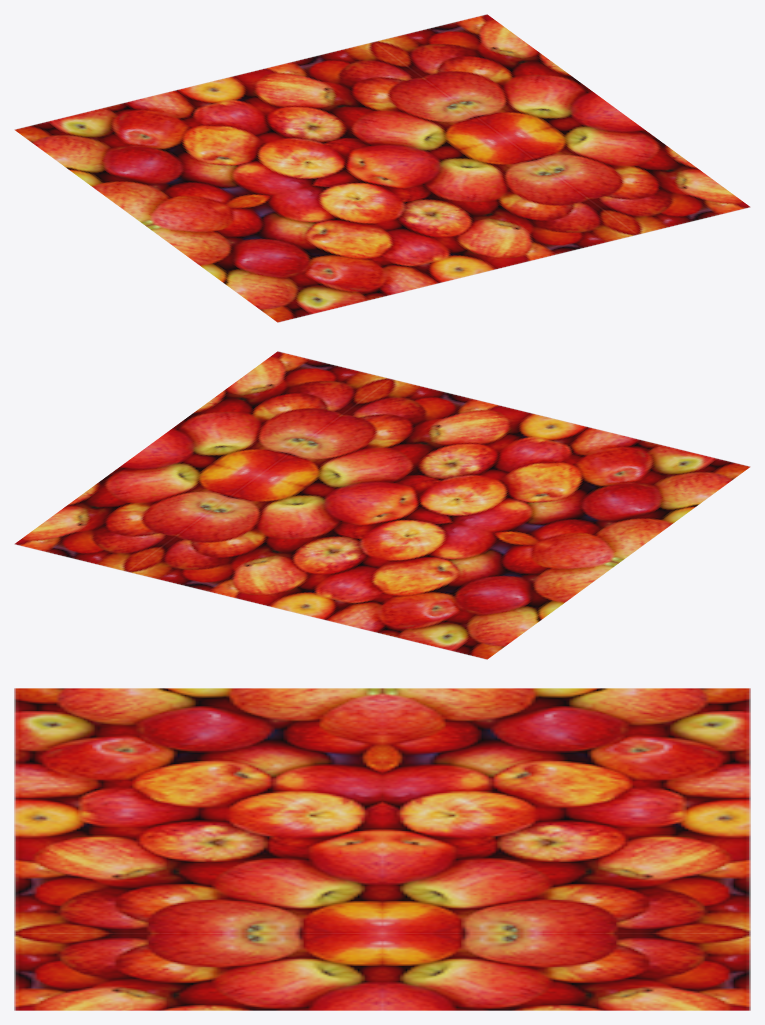
The model's file is apple_lod1.FBX.
3 views of the same model, one above another, from view 1: azimuth 30°, elevation 25°; view 2: azimuth 150°, elevation 25°; view 3: azimuth 270°, elevation 25° (orthographic). The views are drawn at different scales.
Parts seen in each view (by area): view 1: apple; view 2: apple; view 3: apple.
Part boxes in pixels (box(x1,y1,x2,y2)): apple: box(14, 14, 750, 322); apple: box(14, 351, 750, 659); apple: box(14, 688, 750, 1010).
Size of the model in its own units: 195 by 0.00014 by 189.
